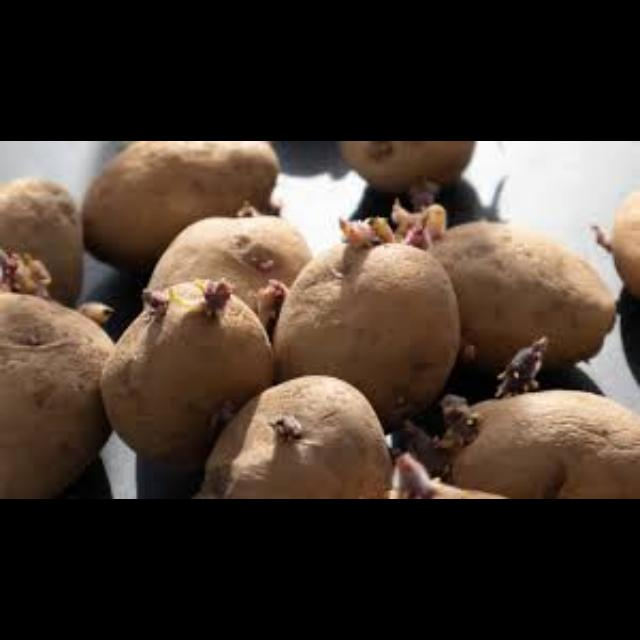Sprouted potato: (384, 182, 622, 376), (270, 212, 456, 406), (372, 373, 640, 499), (96, 276, 274, 452)
